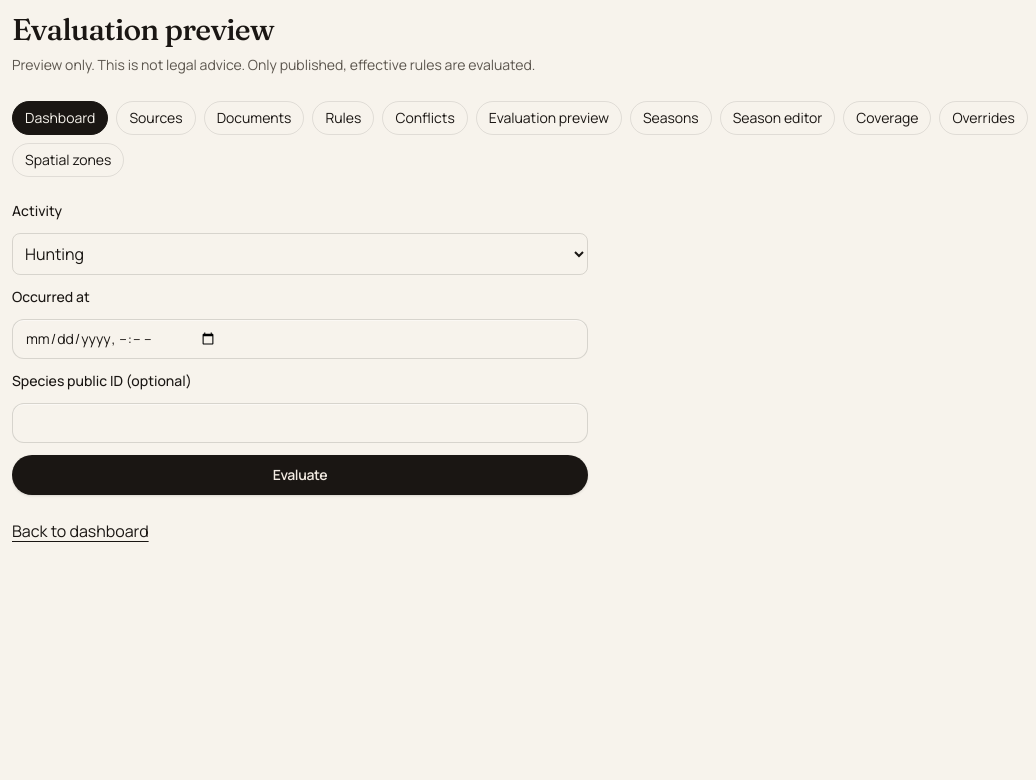
Test: admin legal workspace › shows an evaluation preview labelled as not legal advice
Expected: the text "Preview only. This is not legal advice" is shown, left=12, top=55, right=535, bottom=74
Type "2026-09-24T12:00" into the field labelled "Occurred at" at point(300, 339), box left=12, top=319, right=588, bottom=359
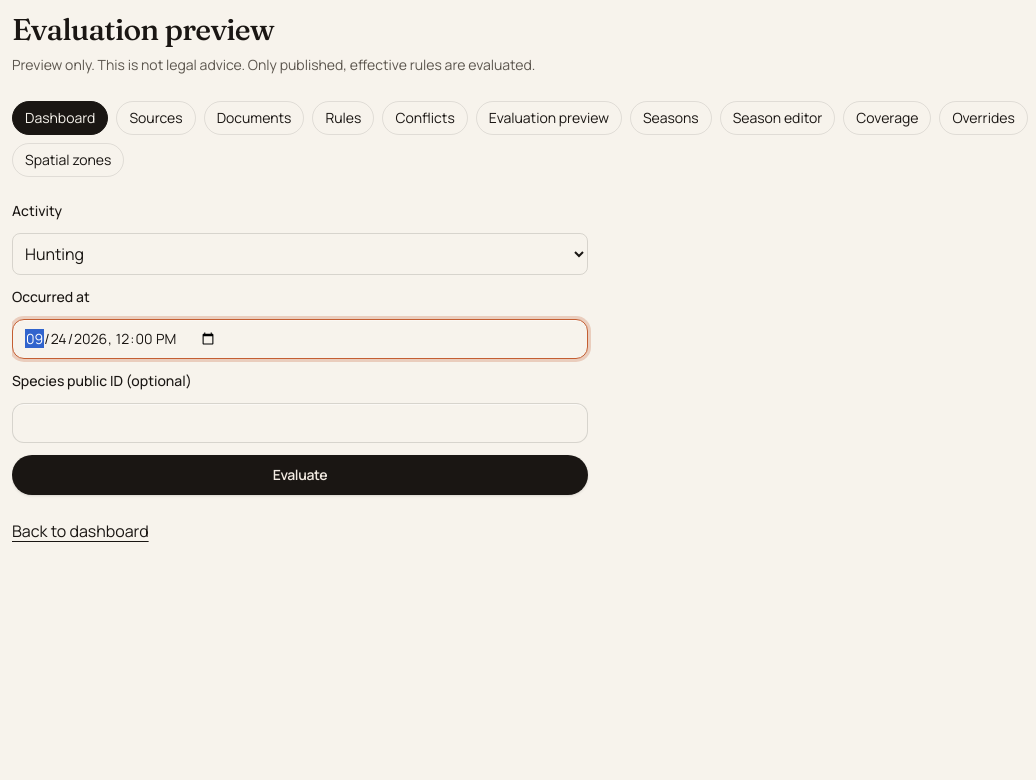
Click the button "Evaluate" at point(300, 475), box left=12, top=455, right=588, bottom=495
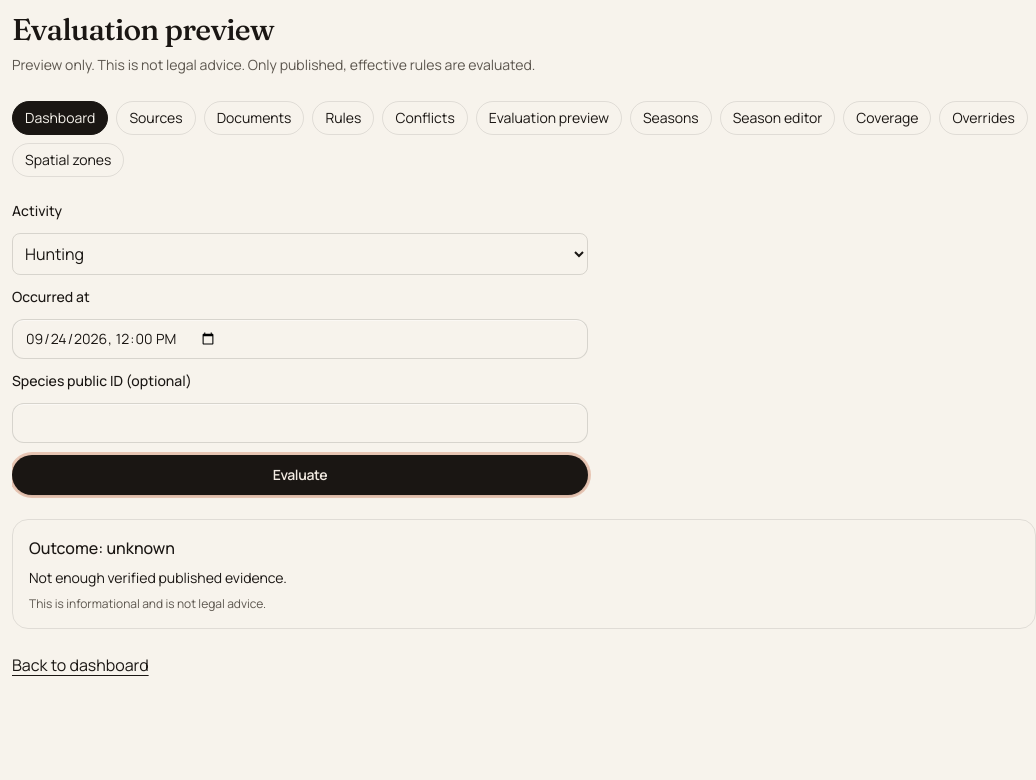
Result: the text "Outcome: unknown" is shown at left=29, top=537, right=175, bottom=559
